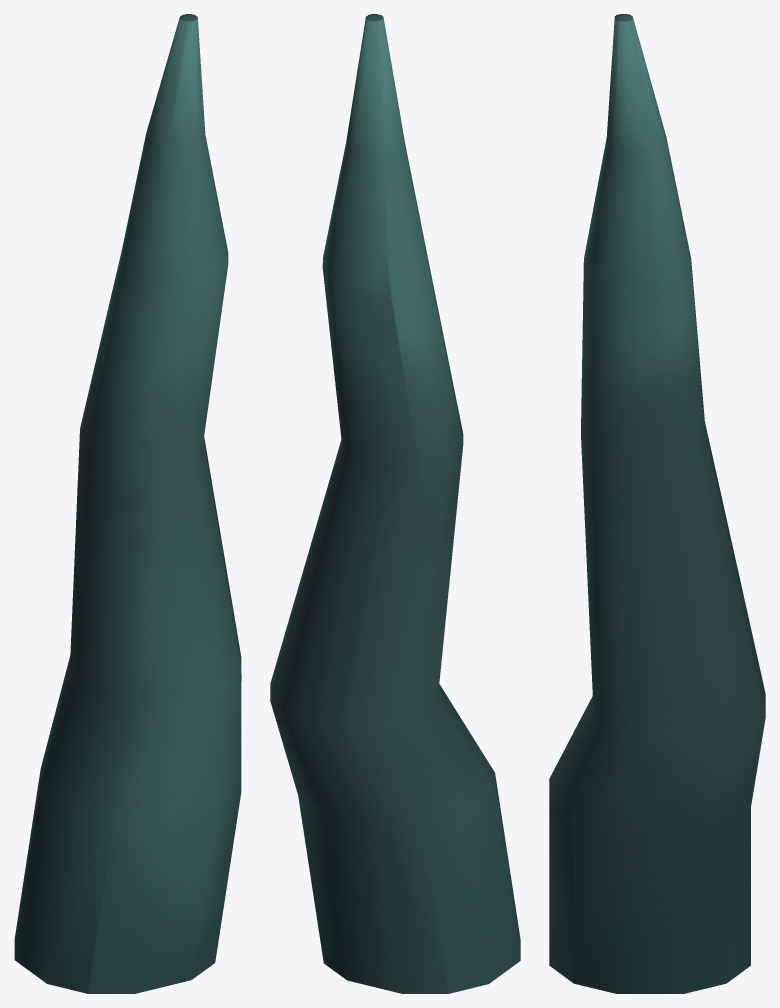
The model's file is stalagmite_01.fbx.
3 views of the same model, side by side, from view 1: azimuth 30°, elevation 25°; view 2: azimuth 150°, elevation 25°; view 3: azimuth 270°, elevation 25° (orthographic). The views are drawn at different scales.
Visible parts, largest first — view 1: polySurface217; view 2: polySurface217; view 3: polySurface217.
Boxes of the visible parts, <box> form: polySurface217: <box>14,14,241,993</box>; polySurface217: <box>270,14,520,993</box>; polySurface217: <box>549,14,765,993</box>.
Bounding box in the file's own units: 0.8161 × 0.6973 × 3.43.
